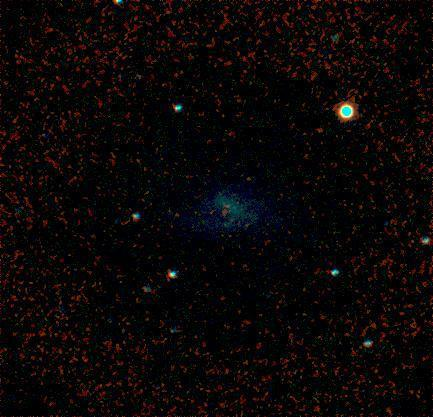star: (214, 194, 244, 224)
